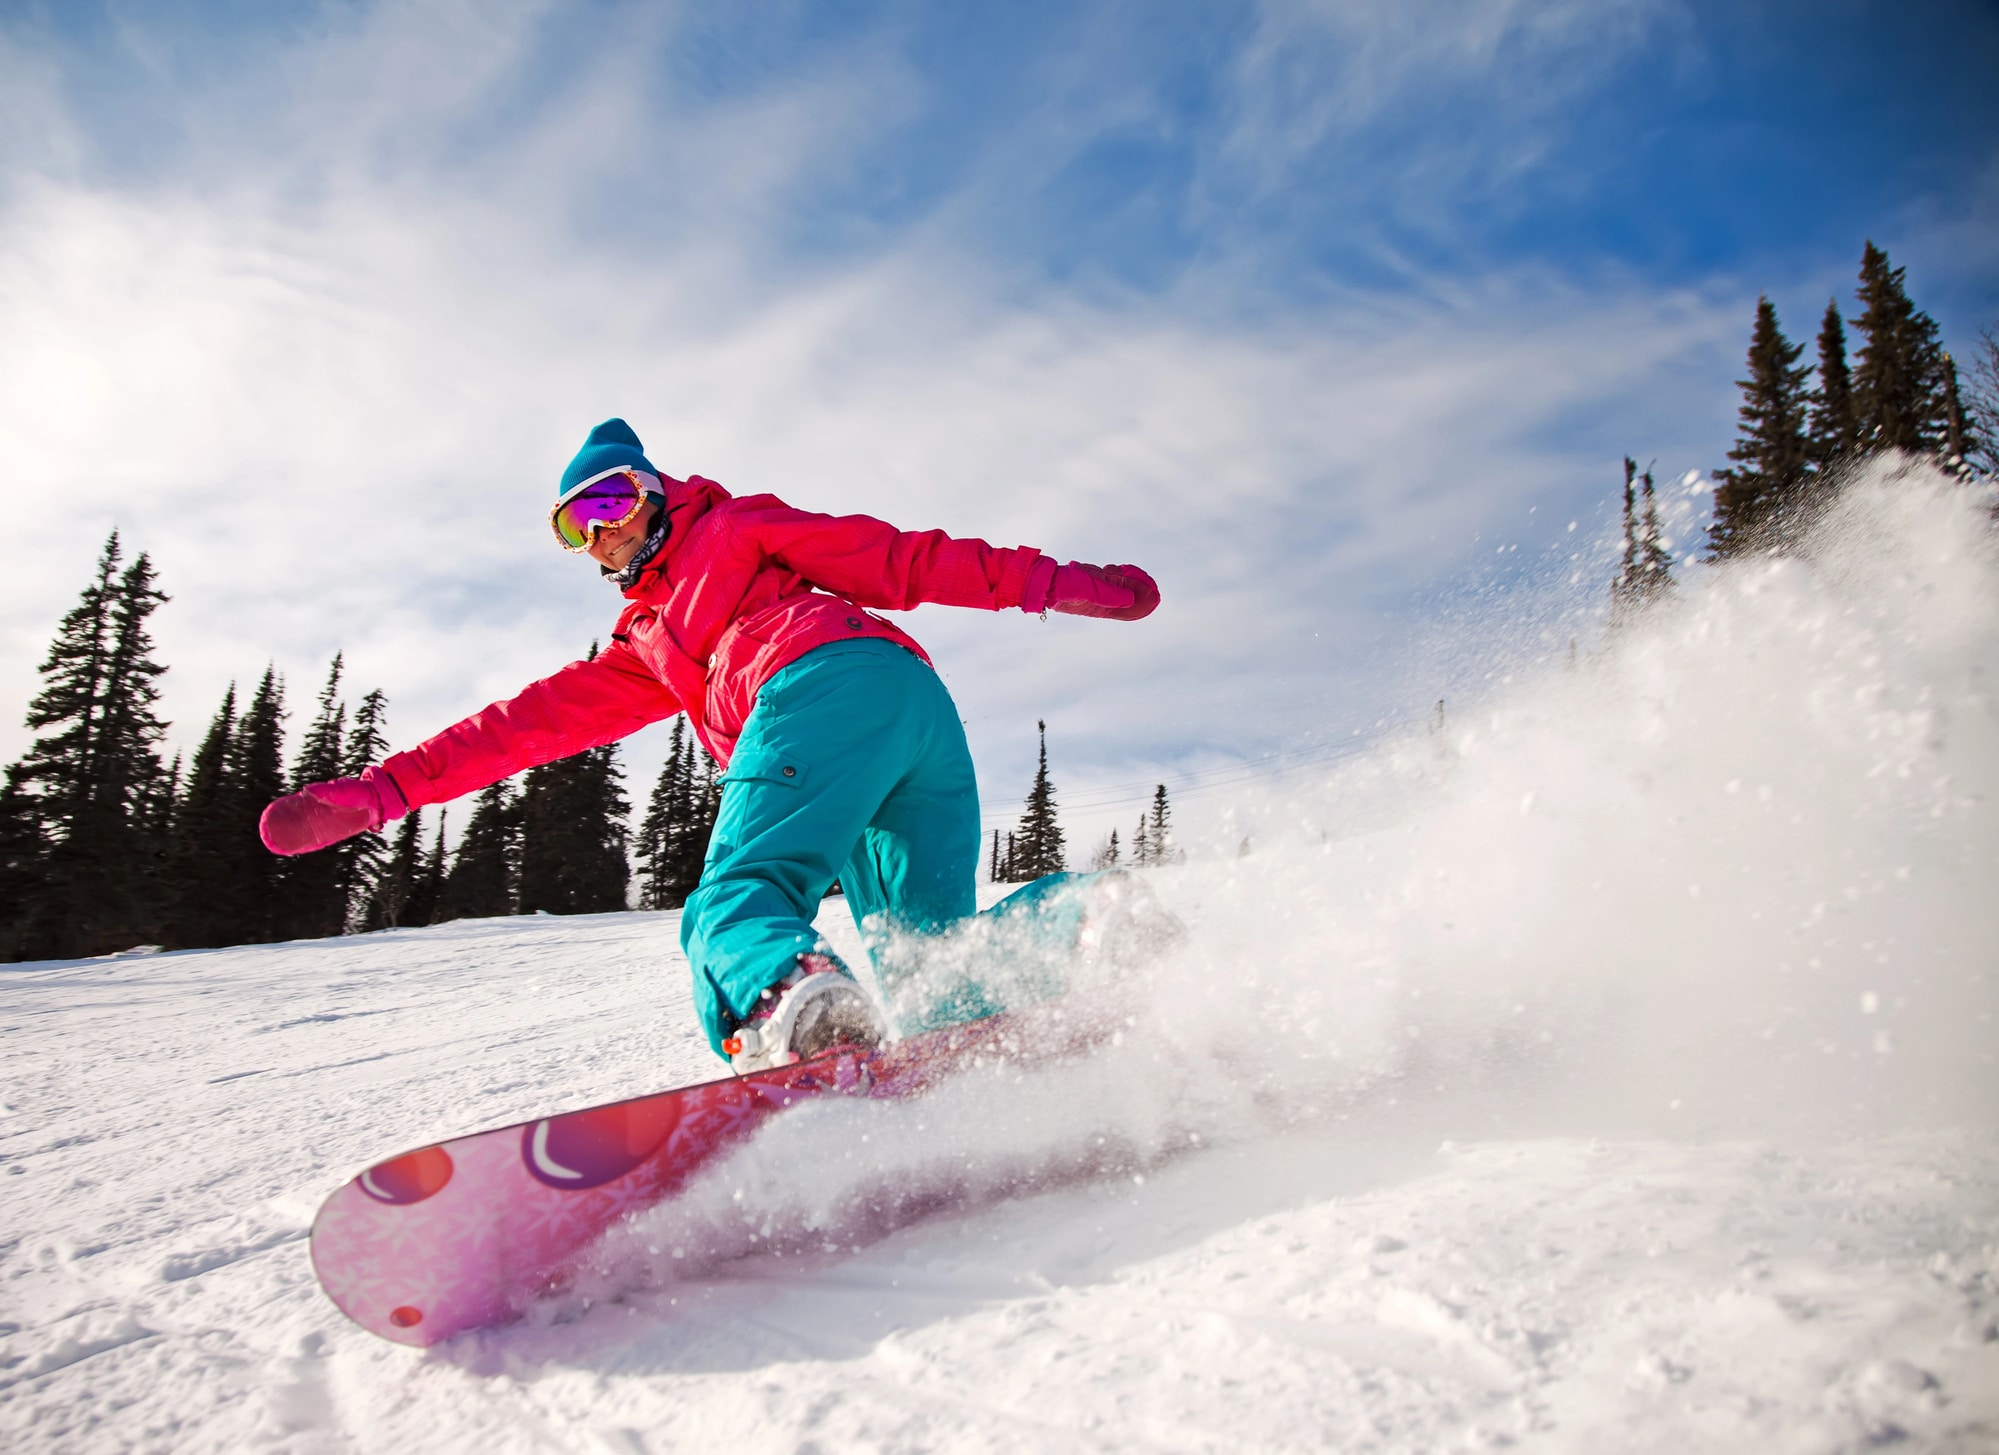snowboarder: (273, 401, 1400, 1332)
